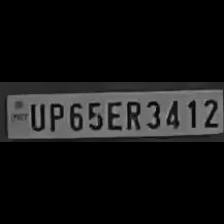1: (182, 96, 198, 130)
2: (200, 96, 218, 128)
3: (143, 97, 161, 129)
4: (162, 96, 180, 130)
5: (85, 99, 103, 131)
6: (65, 100, 83, 132)
E: (104, 99, 122, 131)
P: (46, 100, 64, 132)
R: (122, 97, 142, 130)
U: (27, 100, 46, 132)
